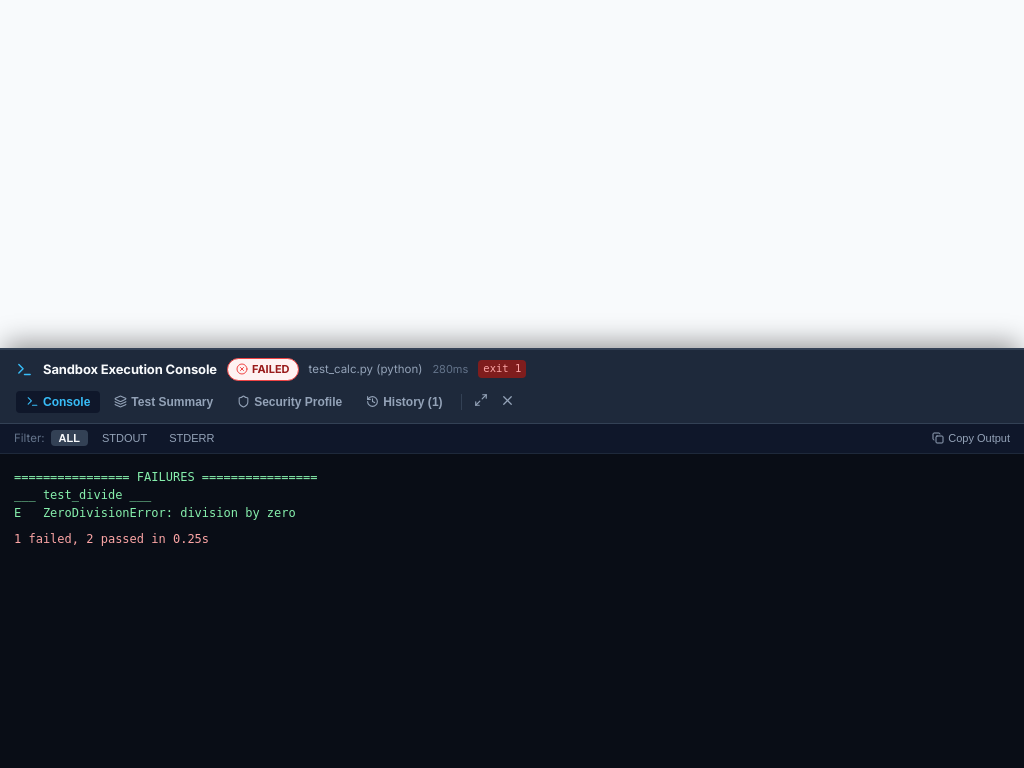
Test case: Phase 9: SandboxConsoleDrawer & Runtime UI › switches to Test Summary tab and displays test metrics
Click the button with test id "tab-tests" at (164, 402), box top-left (104, 390), bottom-right (223, 412)
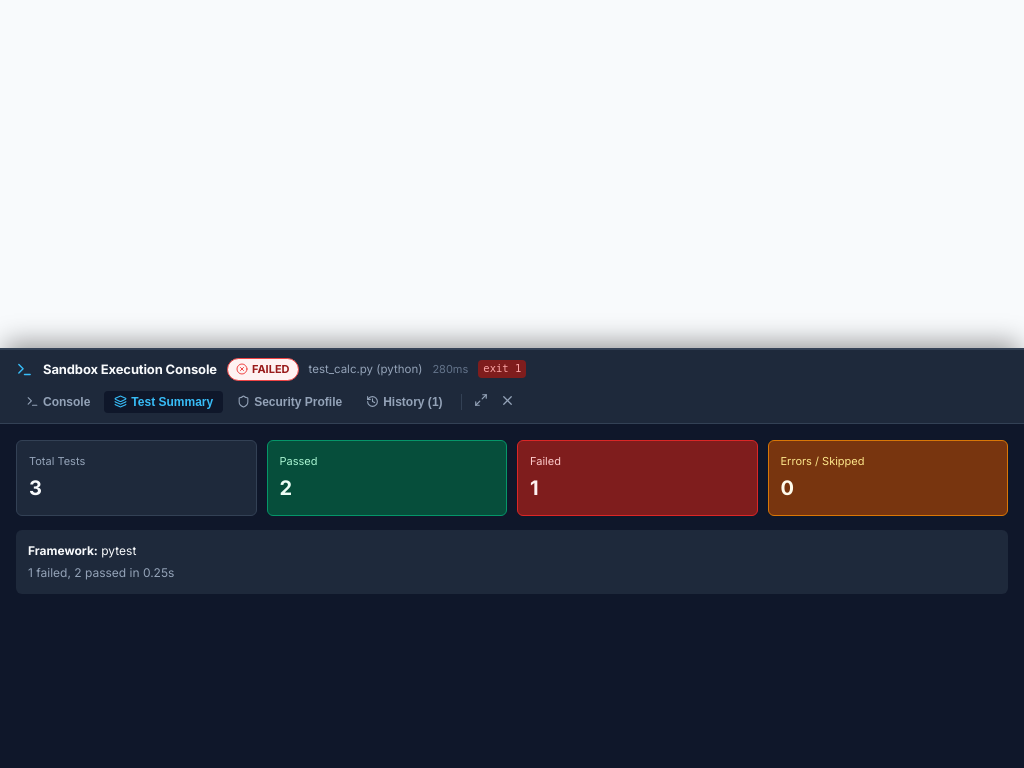
Now the element with test id "test-summary-view" is shown, box top-left (0, 424), bottom-right (1023, 610)
Now the text with test id "test-summary-total" reads "3", box top-left (29, 476), bottom-right (42, 500)
Now the text with test id "test-summary-passed" reads "2", box top-left (280, 476), bottom-right (292, 500)
